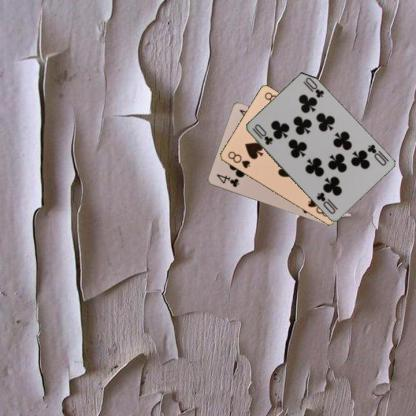10c: (364, 142, 390, 167), (249, 122, 274, 146)
4c: (214, 172, 240, 188)
8s: (225, 148, 251, 170)
